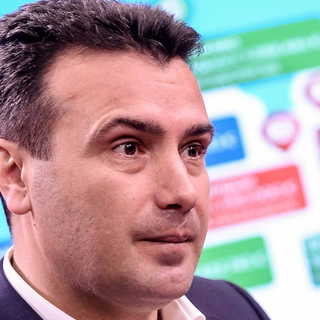eye: (103, 138, 150, 166), (175, 139, 207, 165)
